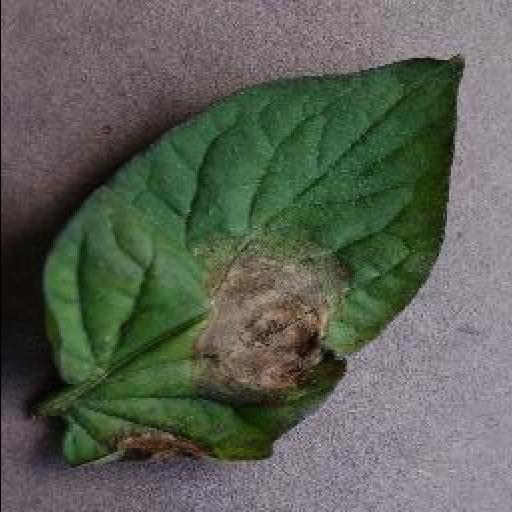disease_tomato: (42, 54, 468, 472)
